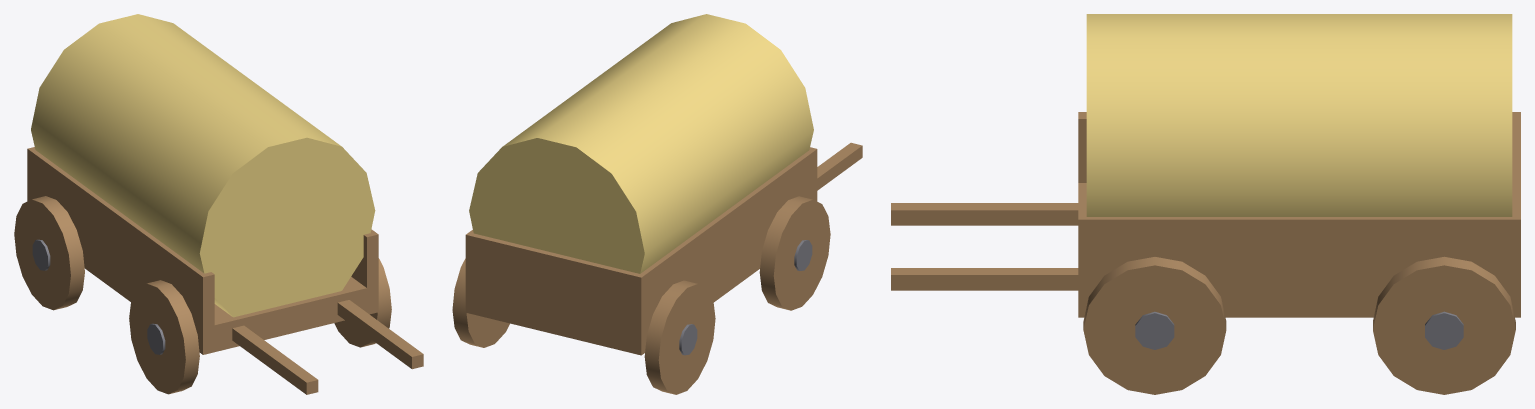
The model's file is merchant_caravan.glb.
The picture shows the model from 3 angles, left to right: view 1: azimuth 30°, elevation 25°; view 2: azimuth 150°, elevation 25°; view 3: azimuth 270°, elevation 25°; orthographic projection. The views are drawn at different scales.
Parts seen in each view (by area): view 1: merchant_caravan; view 2: merchant_caravan; view 3: merchant_caravan.
Part boxes in pixels (bbox=[...]): merchant_caravan: bbox=[14, 14, 423, 394]; merchant_caravan: bbox=[452, 14, 862, 394]; merchant_caravan: bbox=[891, 14, 1520, 394].
Bounding box in the file's own units: 1.8 × 1.98 × 3.7.
